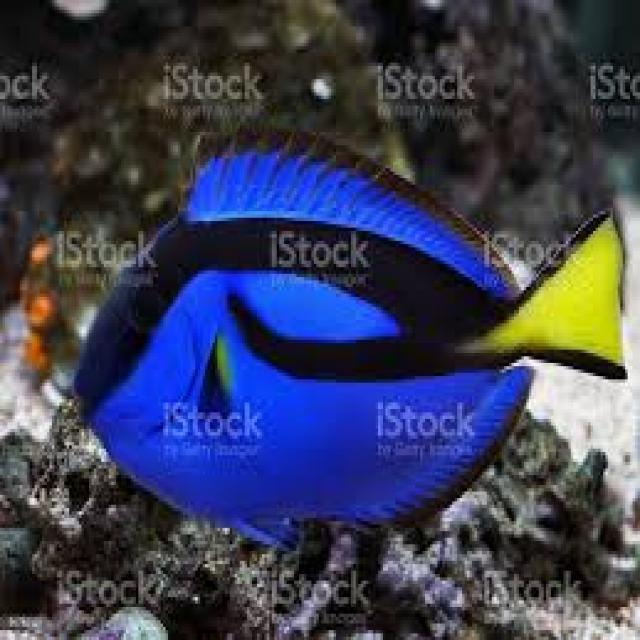TangFish: (73, 120, 628, 546)
